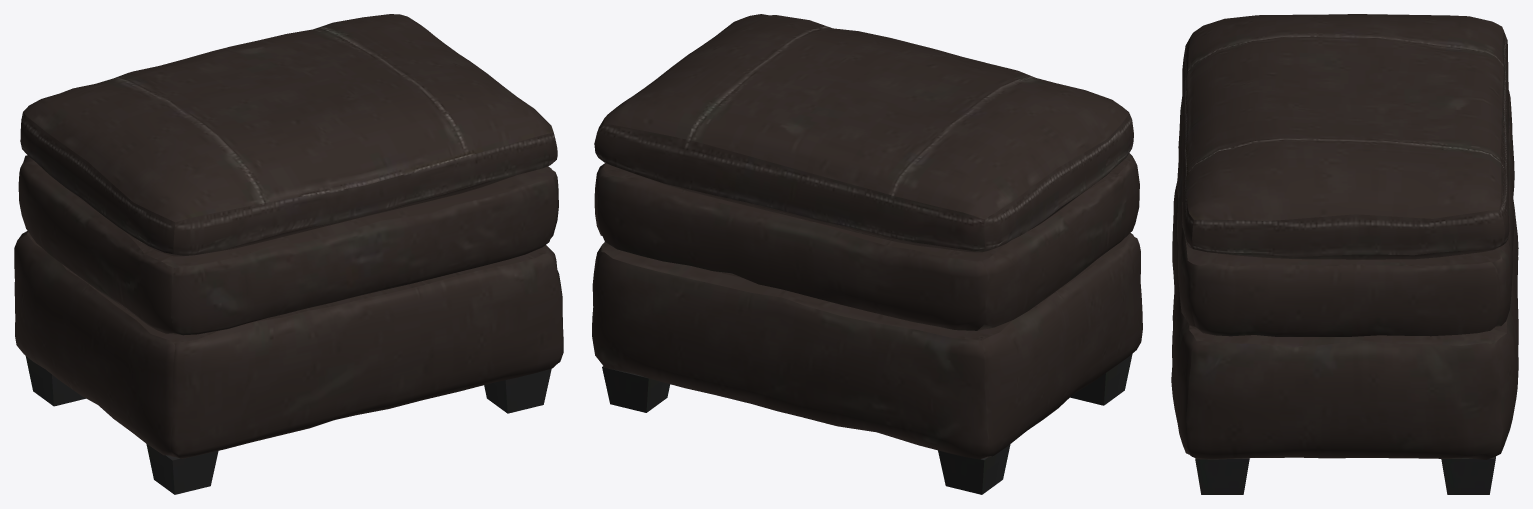
File: ottoman_01.glb
The picture shows the model from 3 angles, left to right: view 1: azimuth 30°, elevation 25°; view 2: azimuth 150°, elevation 25°; view 3: azimuth 270°, elevation 25°; orthographic projection.
Parts seen in each view (by area): view 1: Ottoman_01; view 2: Ottoman_01; view 3: Ottoman_01.
Part boxes in pixels (x1=…): Ottoman_01: x1=14, y1=14, x2=563, y2=494; Ottoman_01: x1=592, y1=14, x2=1142, y2=494; Ottoman_01: x1=1171, y1=14, x2=1518, y2=494.
Size of the model in its own units: 0.8846 by 0.6243 by 0.6212.
Materials: 1 (1 with a texture image).
